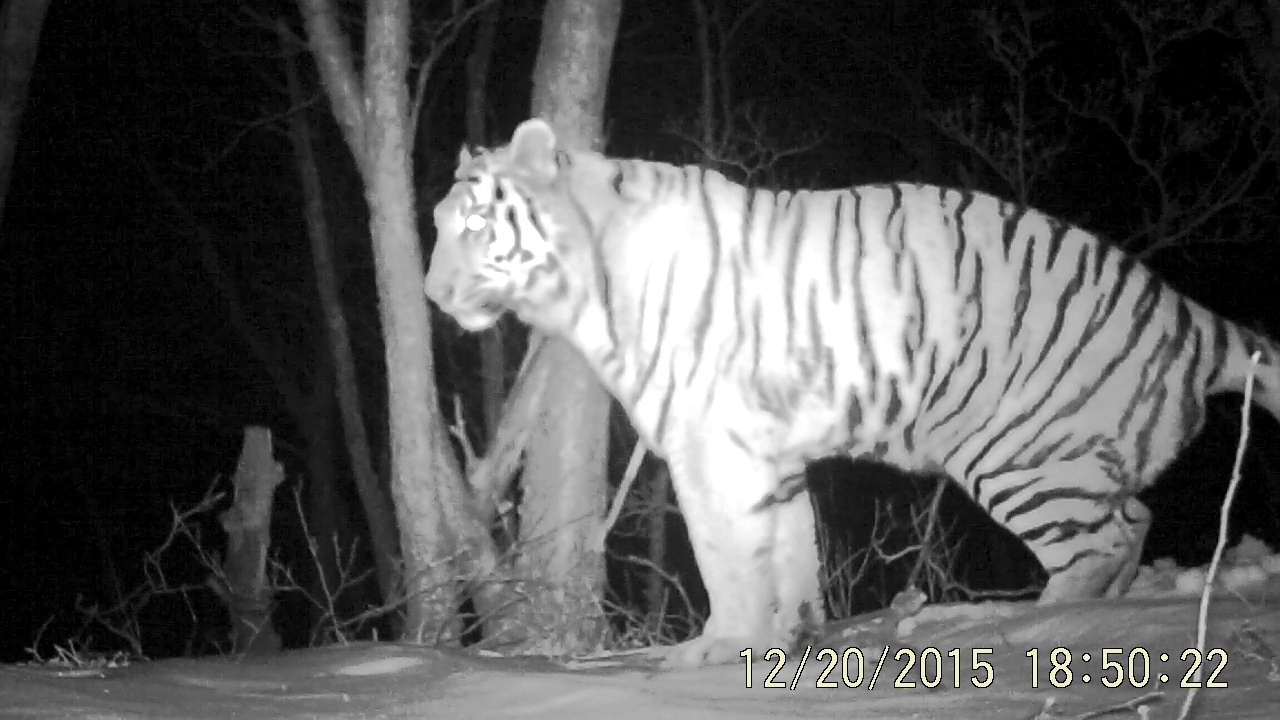Tiger: (406, 101, 1280, 654)
